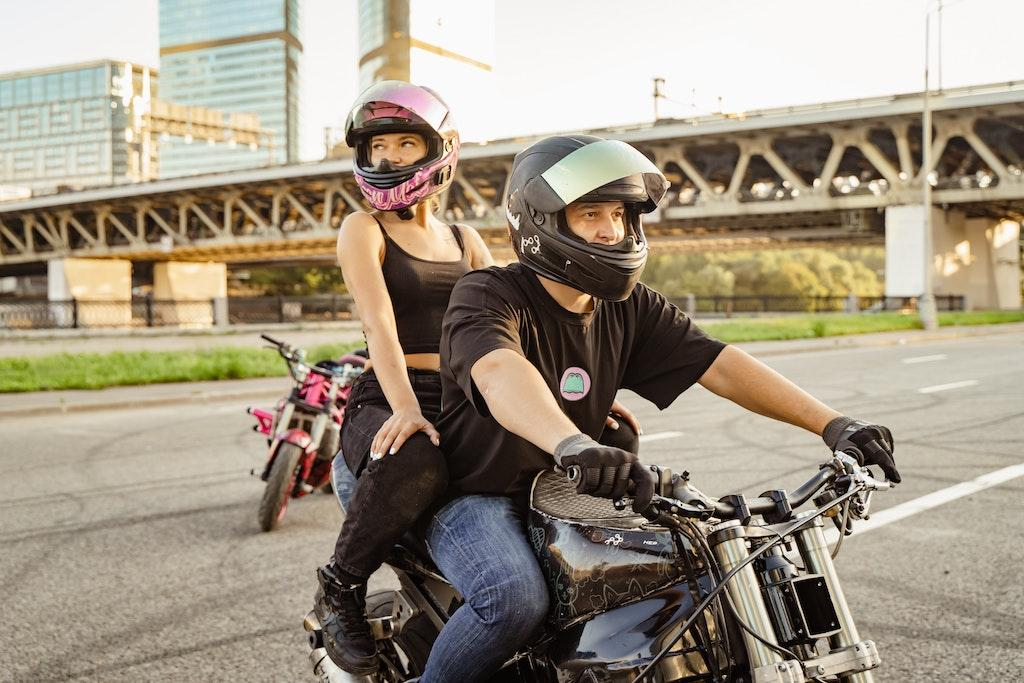helmet: (504, 133, 672, 304), (344, 79, 461, 221)
